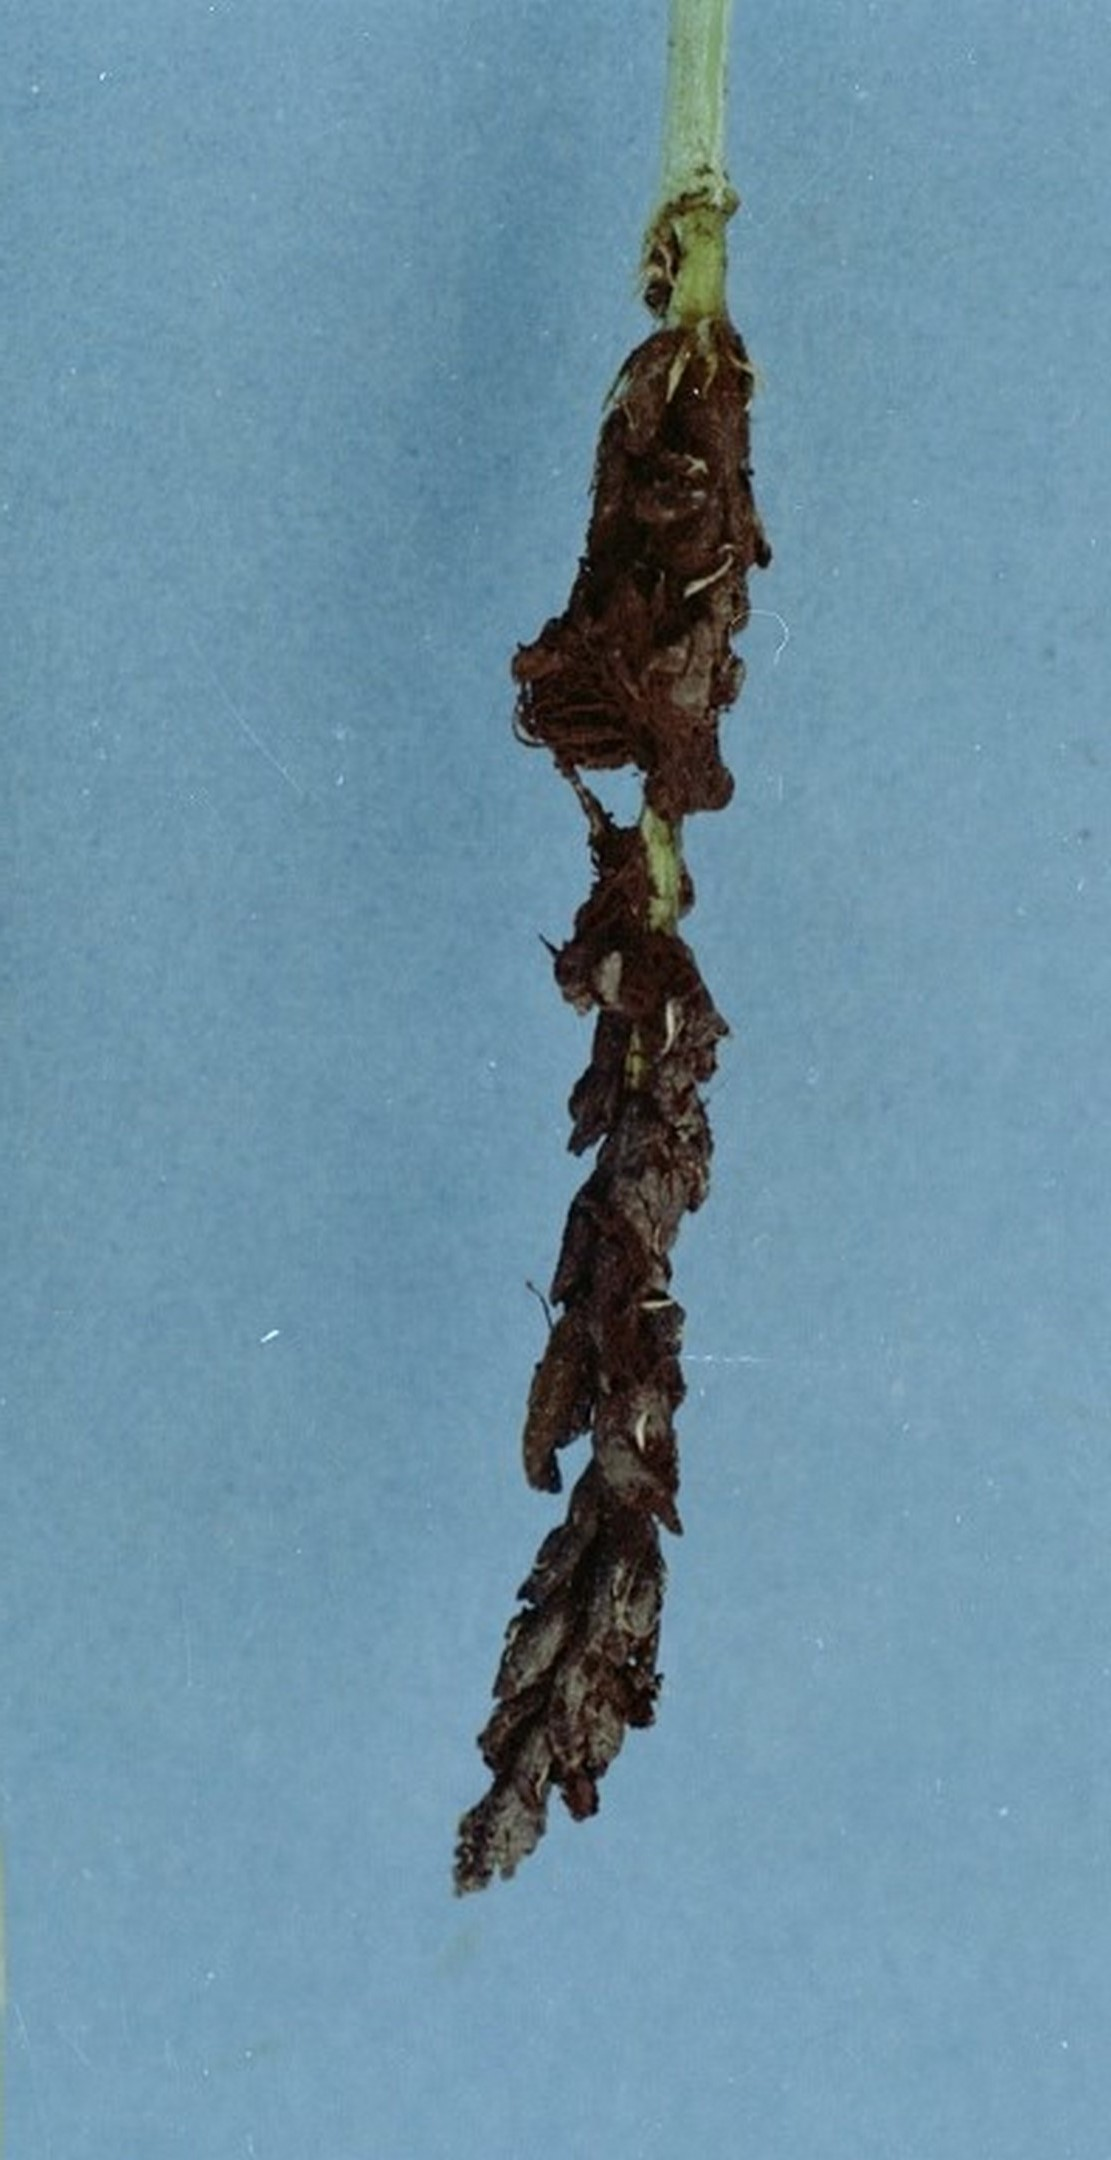Wheat Loose Smut: (393, 210, 826, 1948)
